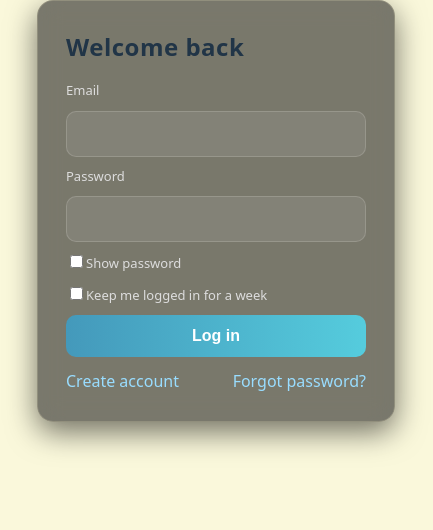
Scenario: Login page › shows error when login fails
In the field labelled "Email": (216, 134) [66,110,366,156], type "x@ex.com"
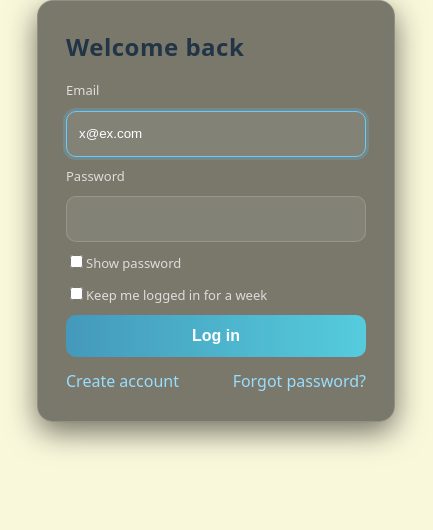
In the password field labelled "Password": (216, 219) [66,196,366,242], type "wrong"
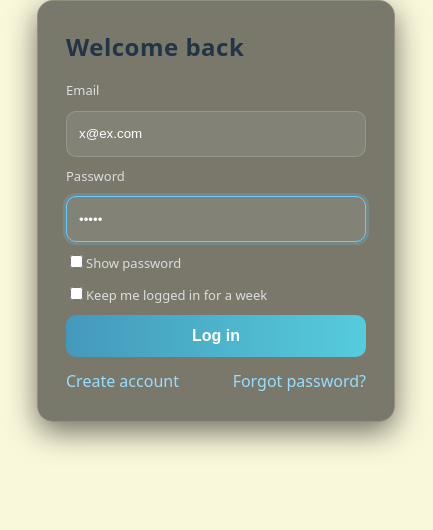
Click the button "Log in": (216, 336) [66,315,366,357]
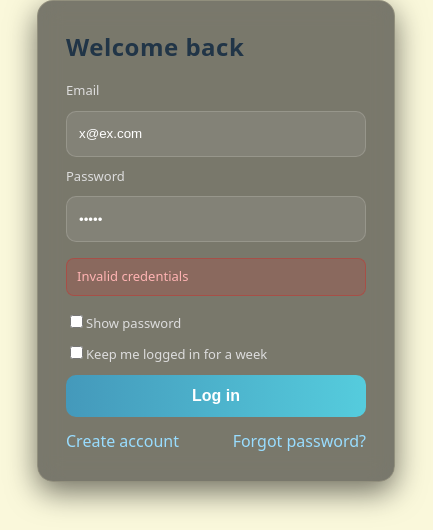
expect the button "Log in" is enabled: met, box [66,374,366,416]
expect the text "Invalid credentials" is shown: met, box [66,258,366,296]
